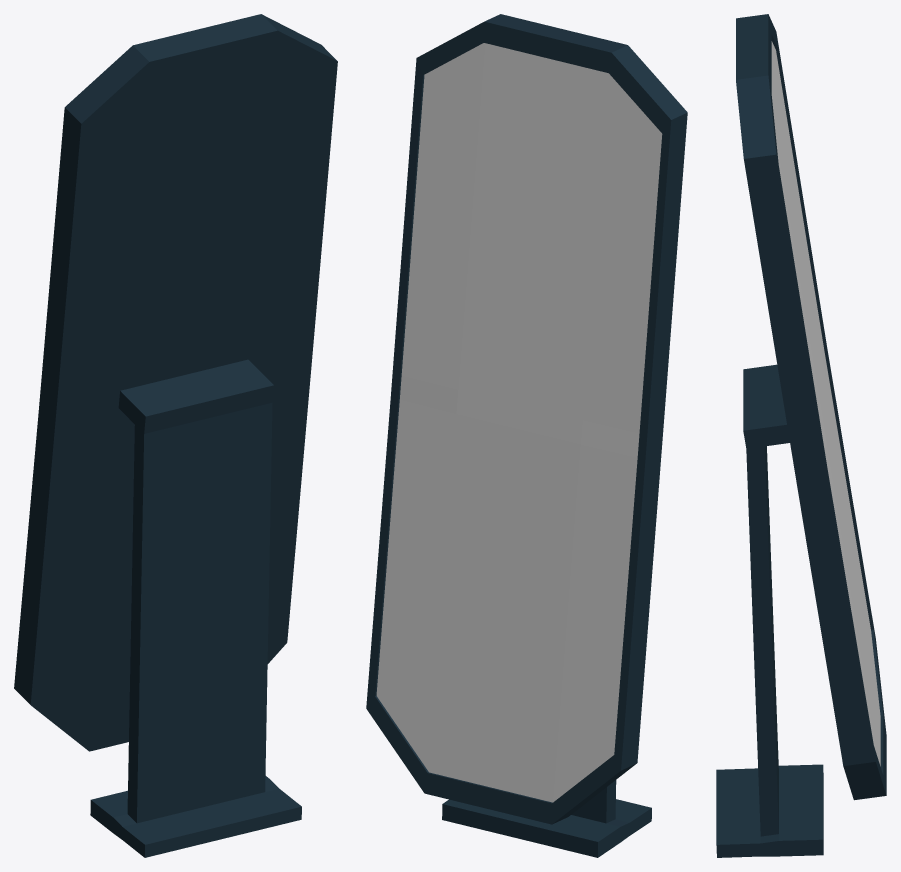
File: Prop_StandingMirror.fbx
The picture shows the model from 3 angles, left to right: view 1: azimuth 30°, elevation 25°; view 2: azimuth 150°, elevation 25°; view 3: azimuth 270°, elevation 25°; orthographic projection.
Parts seen in each view (by area): view 1: Cube.063; view 2: Cube.063; view 3: Cube.063.
Part boxes in pixels (bbox=[...]): Cube.063: bbox=[14, 14, 337, 857]; Cube.063: bbox=[366, 14, 687, 857]; Cube.063: bbox=[716, 14, 886, 857].
Size of the model in its own units: 64.64 by 190 by 37.77.
